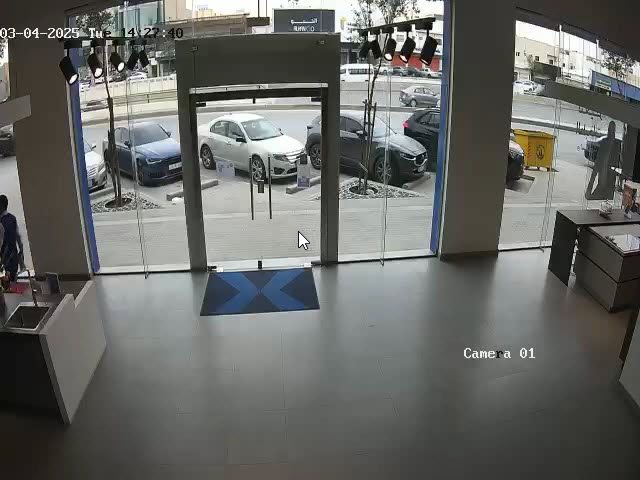employee: (0, 194, 22, 285)
